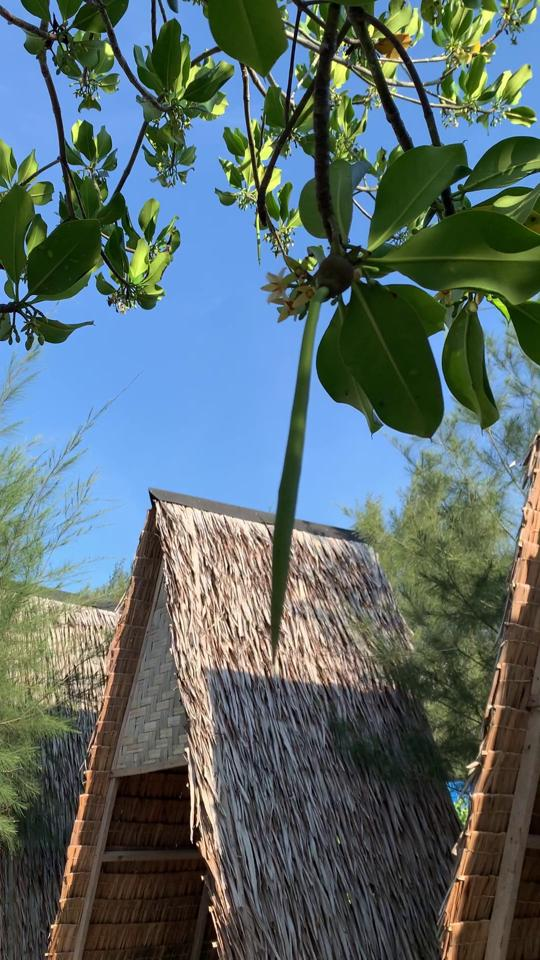mentah: (253, 229, 382, 675)
